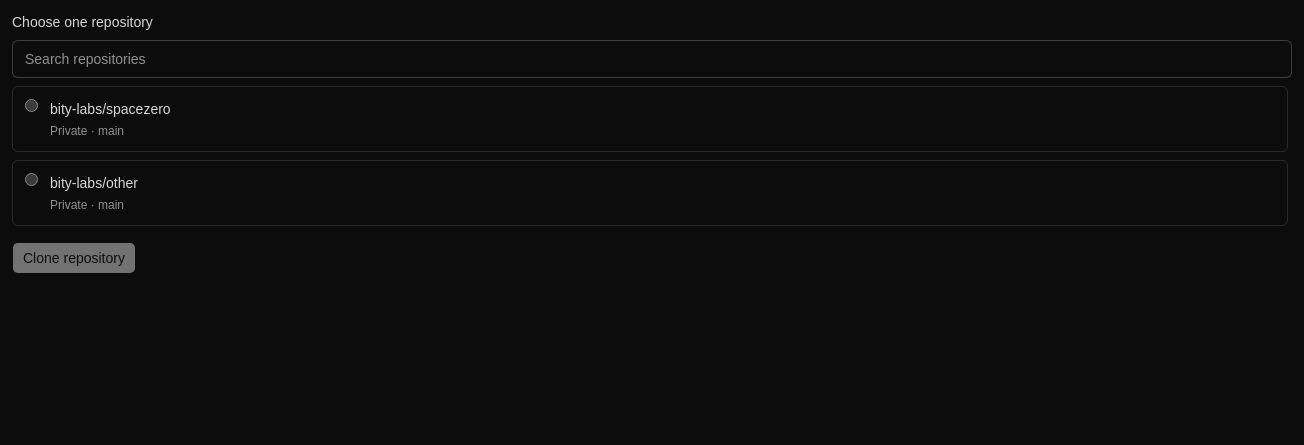
Test: RepositorySetup › keeps one repository operation selected and cancels it when the setup surface closes
Click the radio button labelled "bity-labs/spacezero Private · main": {"x": 32, "y": 106} x1=25 y1=99 x2=38 y2=112
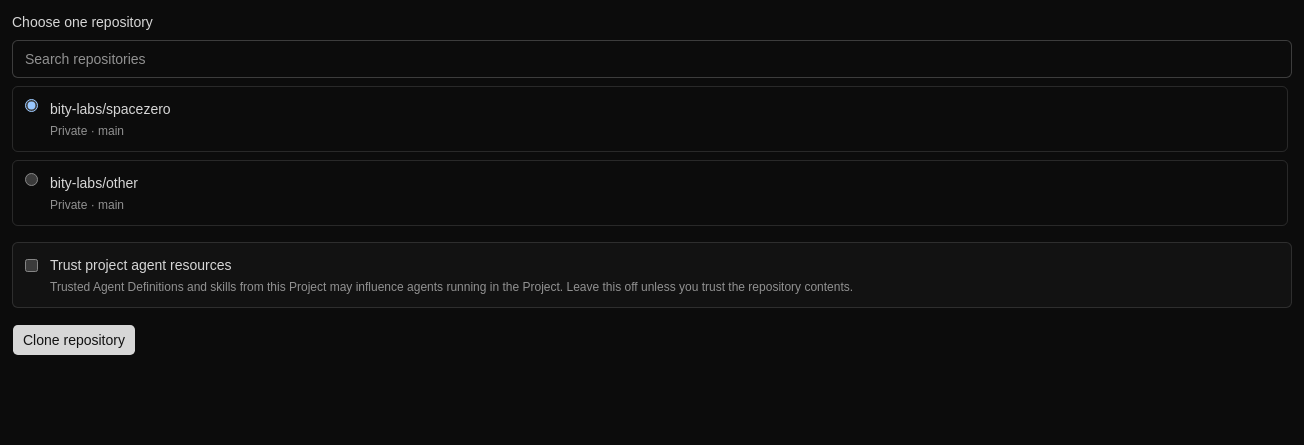
Click the button "Clone repository": {"x": 74, "y": 340} x1=12 y1=324 x2=136 y2=356
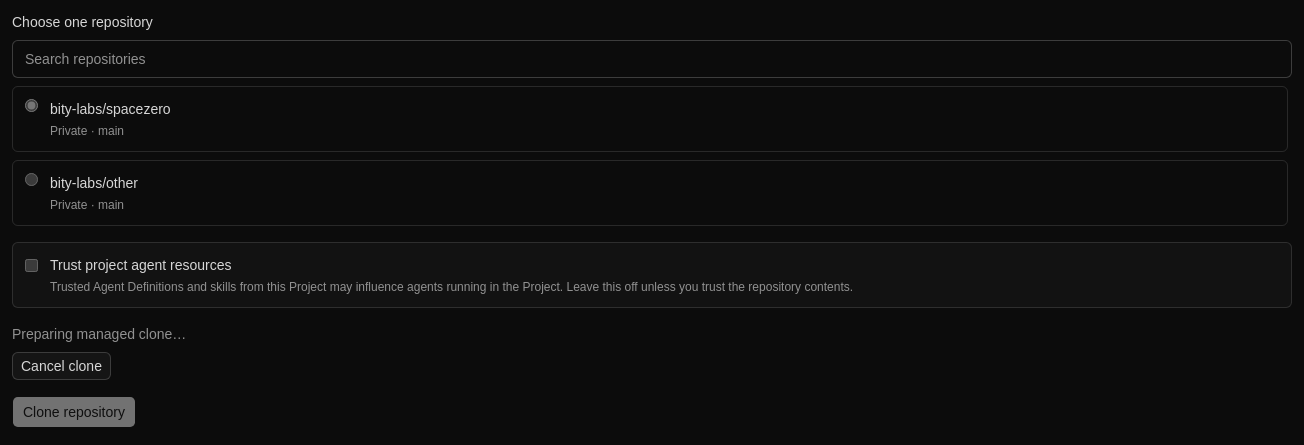
Expected: the text "Preparing managed clone…" is shown, x1=12 y1=326 x2=186 y2=342
Expected: the radio button labelled "bity-labs/other Private · main" is disabled, x1=25 y1=173 x2=38 y2=186
Expected: the button "Clone repository" is disabled, x1=12 y1=396 x2=136 y2=428
